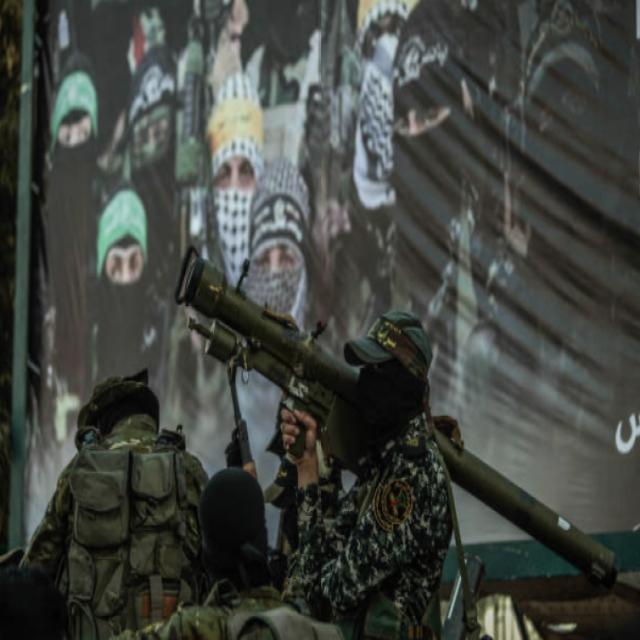bazooka: (166, 231, 632, 604)
